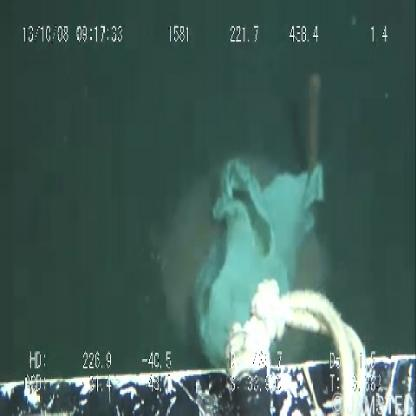Rov: (2, 297, 415, 416)
Rác: (192, 162, 338, 297)
